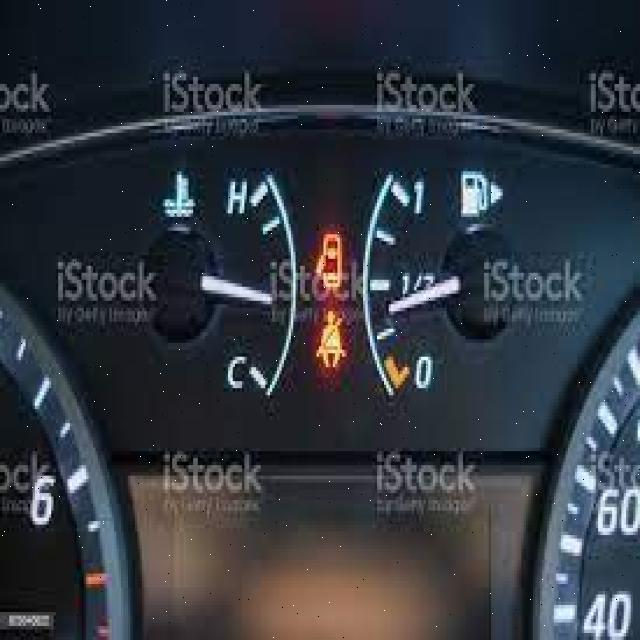Seat Belt: (316, 305, 348, 373)
